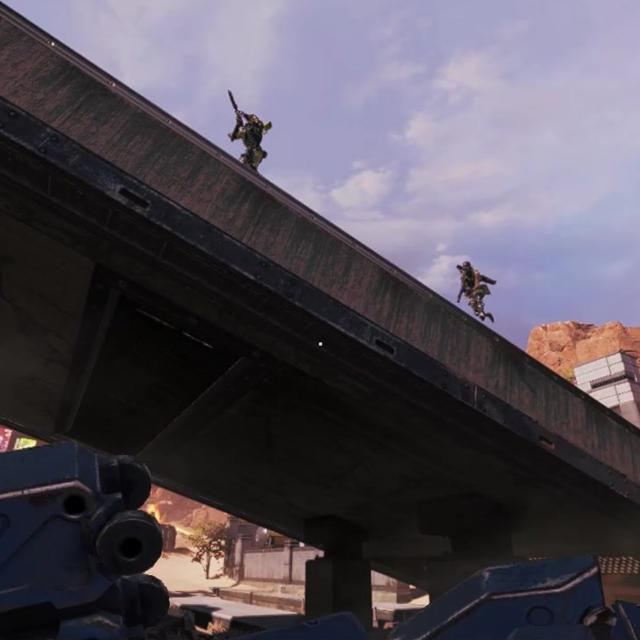avatar: (226, 110, 275, 175), (454, 259, 495, 323)
